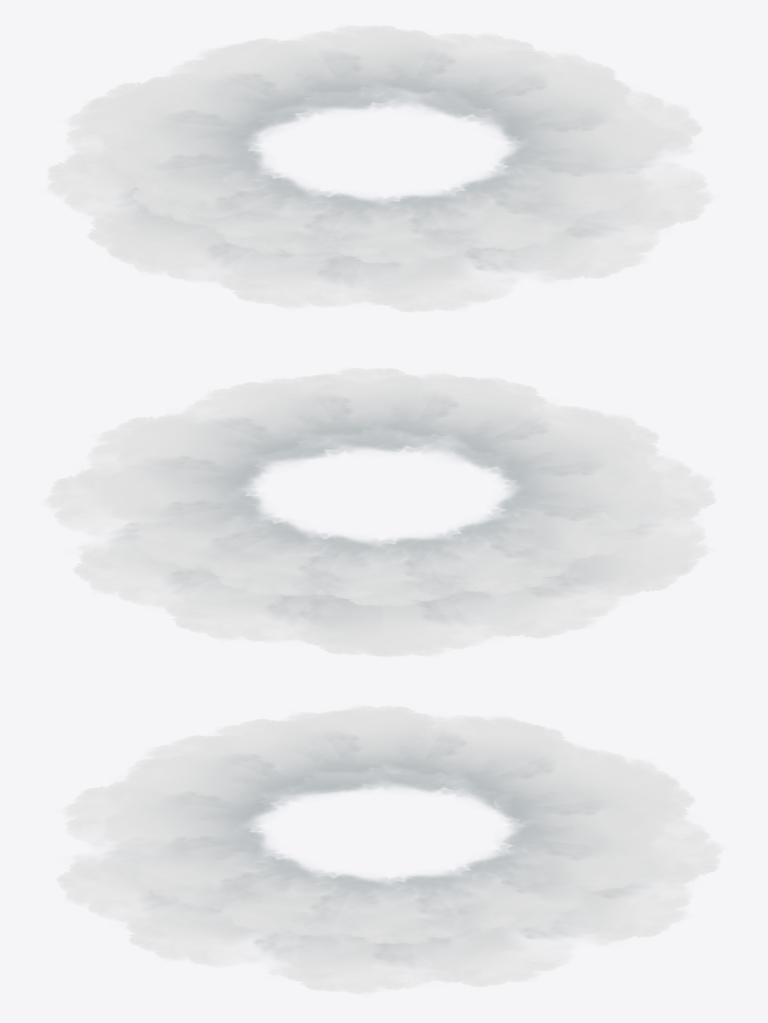
File: clouds_2.gltf
The picture shows the model from 3 angles, top to bottom: view 1: azimuth 30°, elevation 25°; view 2: azimuth 150°, elevation 25°; view 3: azimuth 270°, elevation 25°; orthographic projection.
Visible parts, largest first — view 1: Plane, Plane.001; view 2: Plane, Plane.001; view 3: Plane, Plane.001.
Boxes of the visible parts, x1,y1,x2,y2 form: Plane: (100, 25, 665, 264); Plane.001: (46, 29, 716, 312); Plane: (98, 367, 665, 606); Plane.001: (42, 372, 716, 657); Plane: (102, 705, 668, 944); Plane.001: (56, 709, 725, 995).
Bounding box in the file's own units: 7.5 × 0.3024 × 7.5.
Materials: 2 (2 with a texture image).
